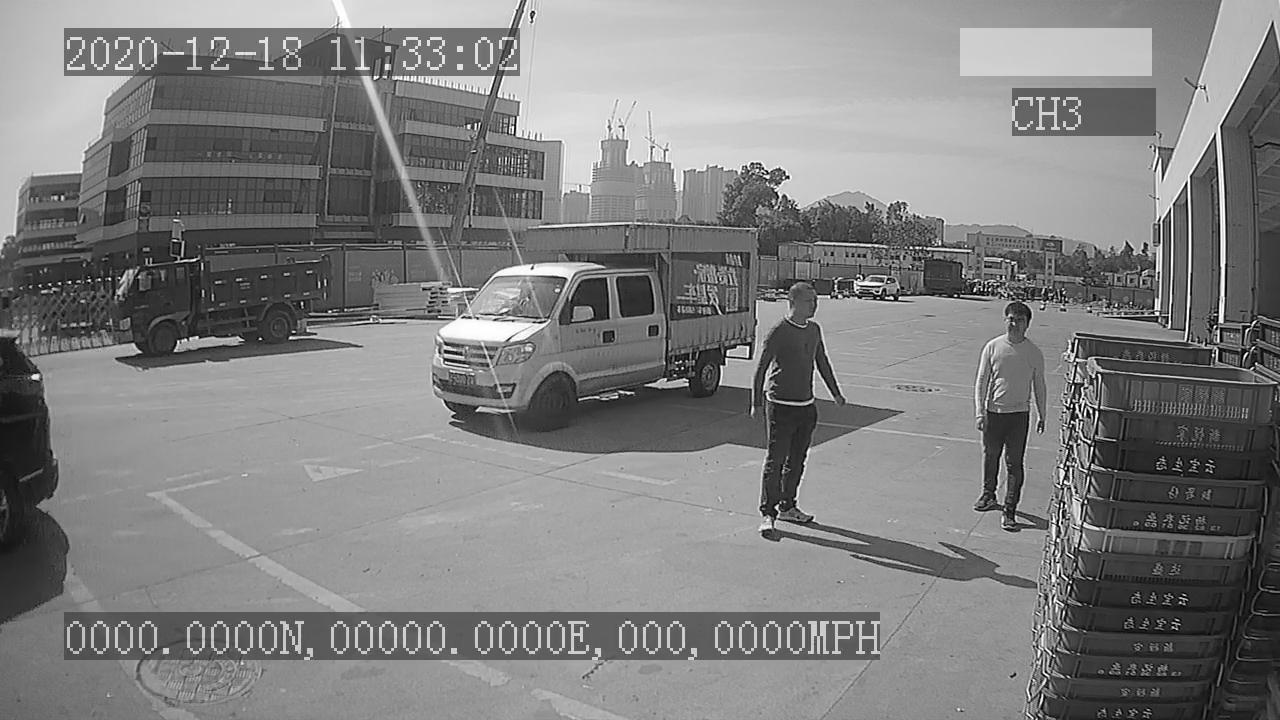person: (966, 302, 1051, 530)
